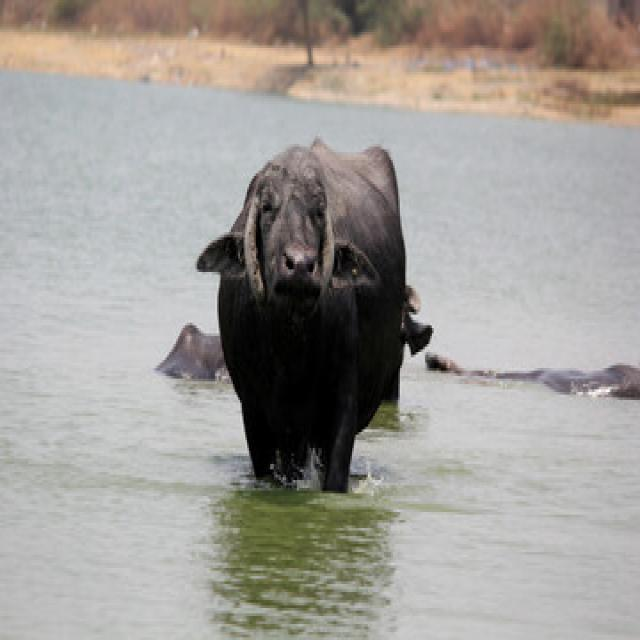Buffalo: (159, 133, 438, 489), (221, 150, 349, 315), (435, 355, 636, 398), (157, 323, 229, 383)
